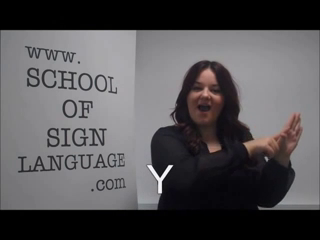Y: (246, 109, 306, 173)
